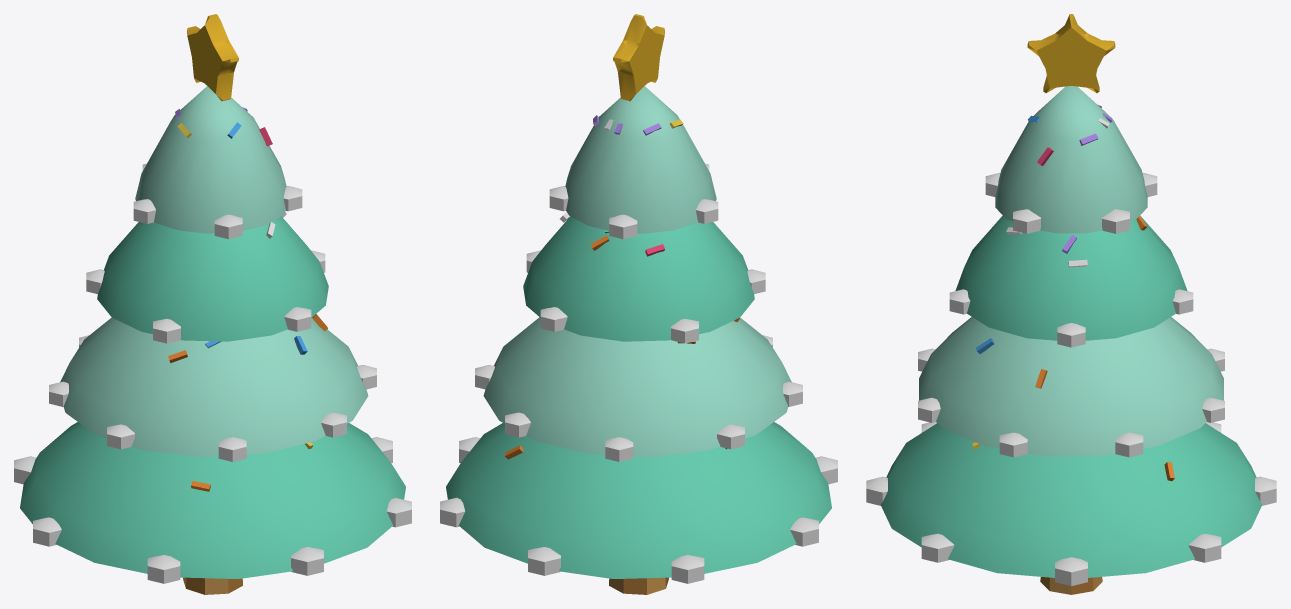
Rendered from lolly_tree_c.glb.
The picture shows the model from 3 angles, left to right: view 1: azimuth 30°, elevation 25°; view 2: azimuth 150°, elevation 25°; view 3: azimuth 270°, elevation 25°; orthographic projection.
Parts seen in each view (by area): view 1: lolly_tree_c; view 2: lolly_tree_c; view 3: lolly_tree_c.
Part boxes in pixels (x1,y1,x2,y2): lolly_tree_c: (14,14,411,594); lolly_tree_c: (440,14,837,594); lolly_tree_c: (866,14,1276,594).
Bounding box in the file's own units: 2.67 × 4.01 × 2.63.
